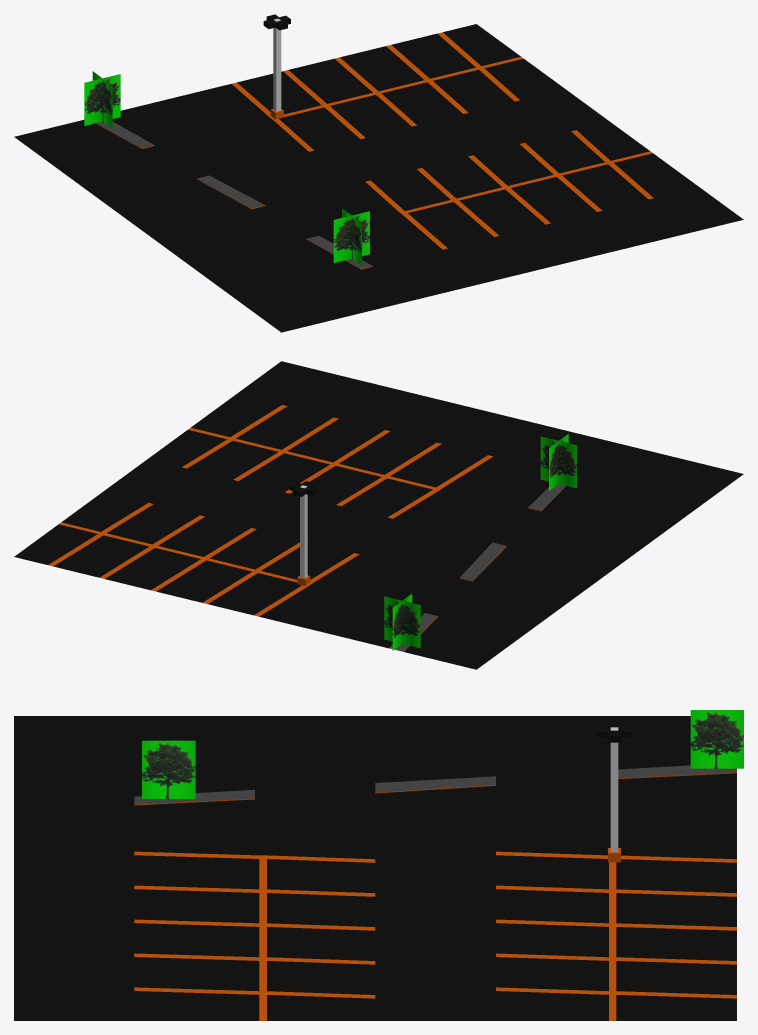
File: 14_gign.obj
The picture shows the model from 3 angles, top to bottom: view 1: azimuth 30°, elevation 25°; view 2: azimuth 150°, elevation 25°; view 3: azimuth 270°, elevation 25°; orthographic projection. The views are drawn at different scales.
Visible parts, largest first — view 1: 14_gign_Grid.011; view 2: 14_gign_Grid.011; view 3: 14_gign_Grid.011.
Part boxes in pixels (x1,y1,x2,y2): 14_gign_Grid.011: (14,14,743,332); 14_gign_Grid.011: (14,361,743,669); 14_gign_Grid.011: (14,710,743,1020).
Size of the model in its own units: 15.98 by 3.19 by 16.16.
Materials: 7 (1 with a texture image).
